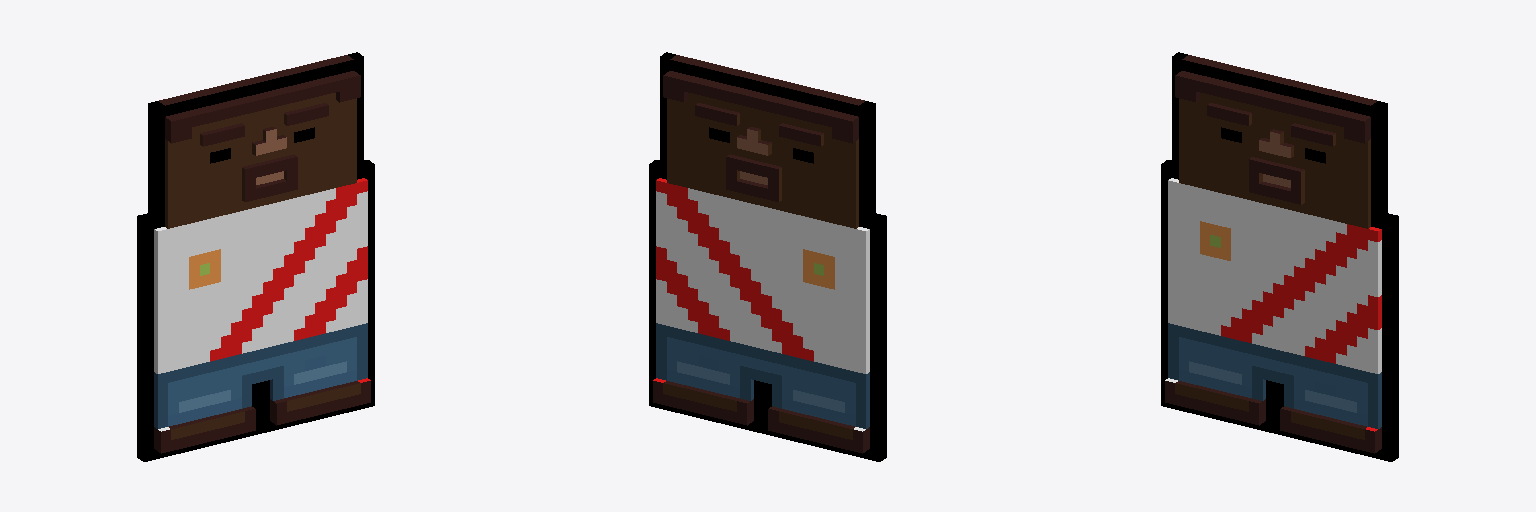
3 renders of one model, left to right at view 1: azimuth 30°, elevation 25°; view 2: azimuth 150°, elevation 25°; view 3: azimuth 330°, elevation 25°, orthographic.
Size of the model in its own units: 22 by 32 by 3.3.
Materials: 1 (1 with a texture image).